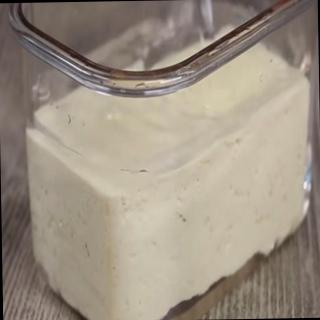Tahu: (13, 65, 320, 317)
